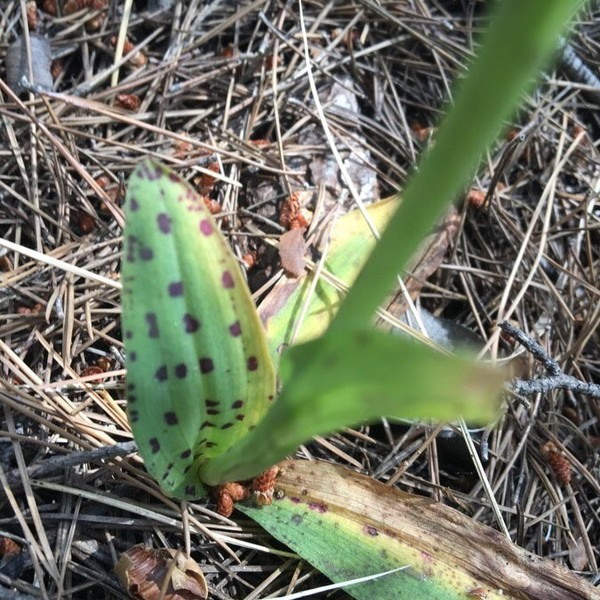obstacle: (67, 83, 530, 596)
